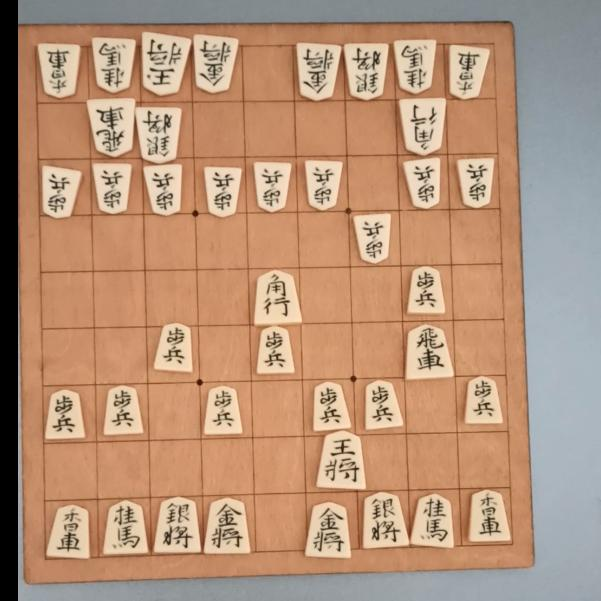board: (35, 44, 514, 560)
